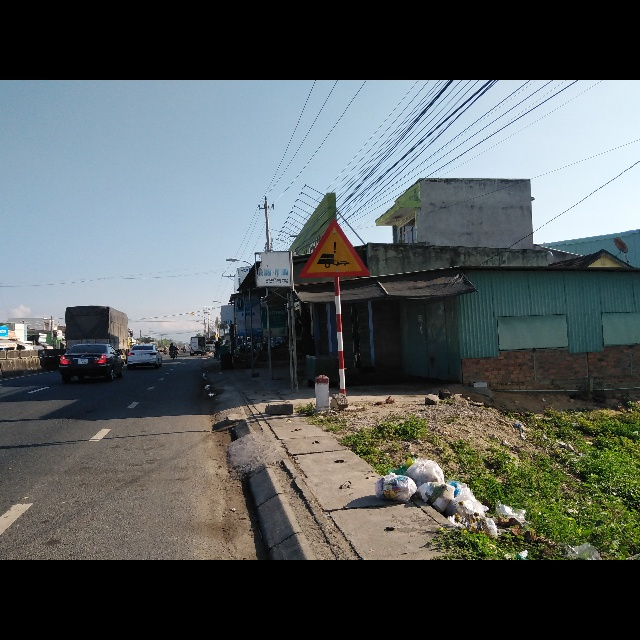Đoạn đường hay xảy ra tai nạn: (297, 215, 372, 280)
